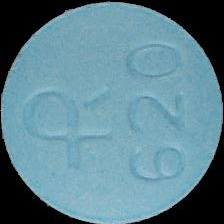0228-2620: (0, 0, 224, 224)
